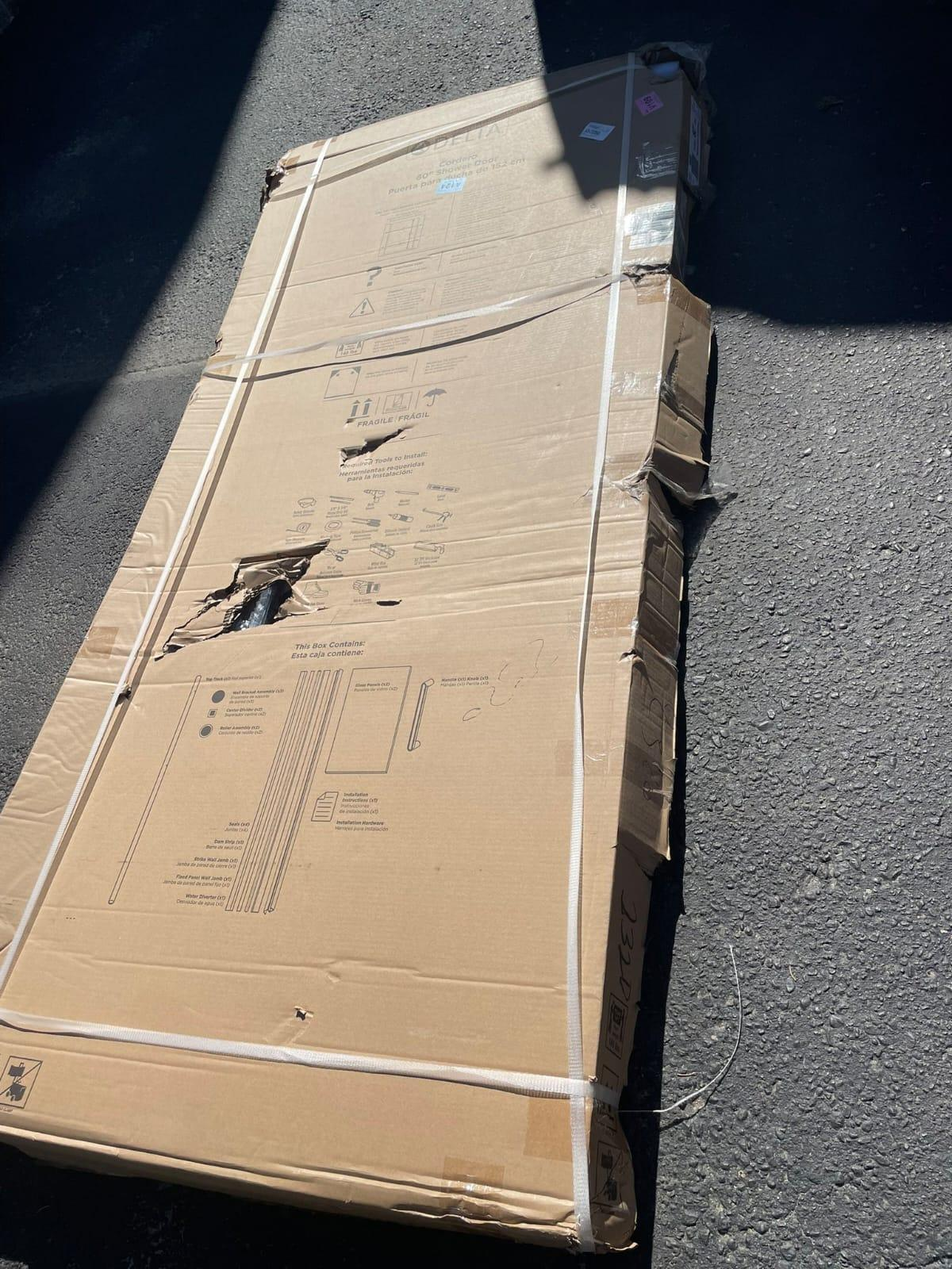damaged package: (149, 532, 343, 663), (333, 422, 408, 471), (636, 46, 702, 98), (260, 164, 284, 195)
undamaged: (0, 25, 723, 1268)
